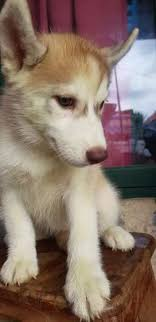Bulldog: (1, 1, 154, 315)
